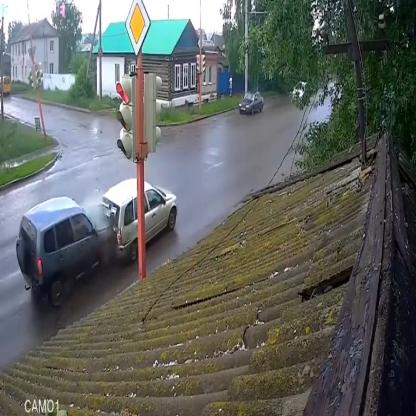accident: (22, 179, 181, 304)
